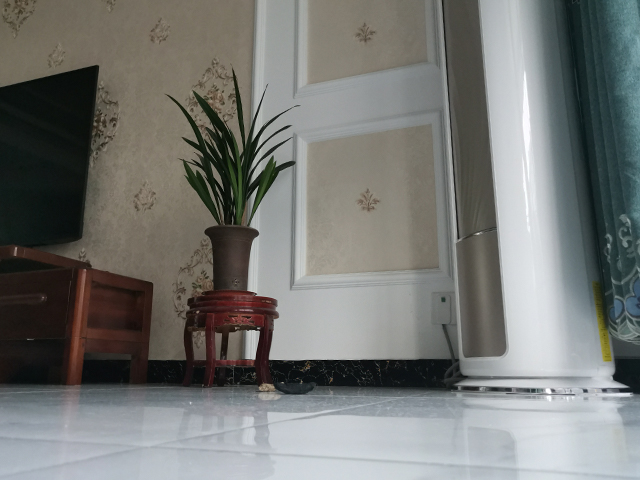cabinet: (1, 243, 157, 387)
curtain: (563, 1, 640, 347)
feces: (255, 380, 318, 396)
stool: (180, 288, 281, 389)
wire: (438, 323, 463, 388)
